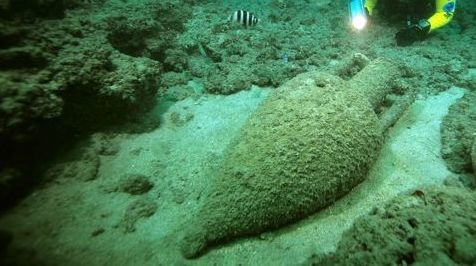amphora: (177, 49, 417, 258)
